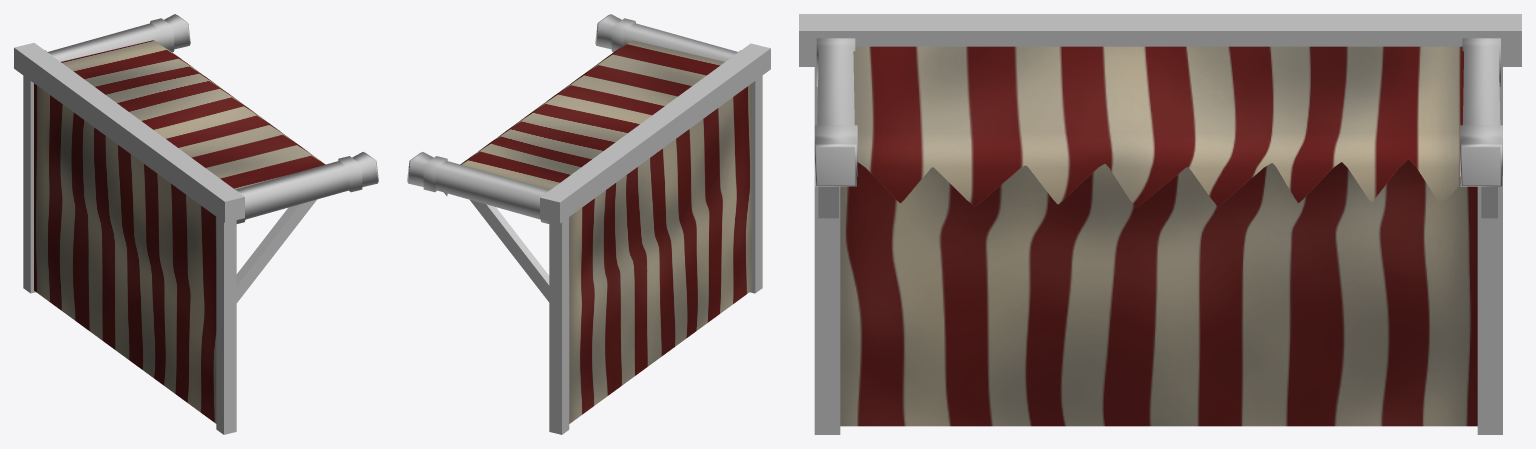
File: M_Stall_Red.fbx
3 renders of one model, left to right at view 1: azimuth 30°, elevation 25°; view 2: azimuth 150°, elevation 25°; view 3: azimuth 270°, elevation 25°, orthographic. The views are drawn at different scales.
Visible parts, largest first — view 1: M_Stall_Red; view 2: M_Stall_Red; view 3: M_Stall_Red.
Boxes of the visible parts, x1=… form: M_Stall_Red: x1=14, y1=14, x2=378, y2=434; M_Stall_Red: x1=407, y1=14, x2=770, y2=434; M_Stall_Red: x1=799, y1=14, x2=1521, y2=434.
Bounding box in the file's own units: 2.99 × 4.25 × 6.83.
